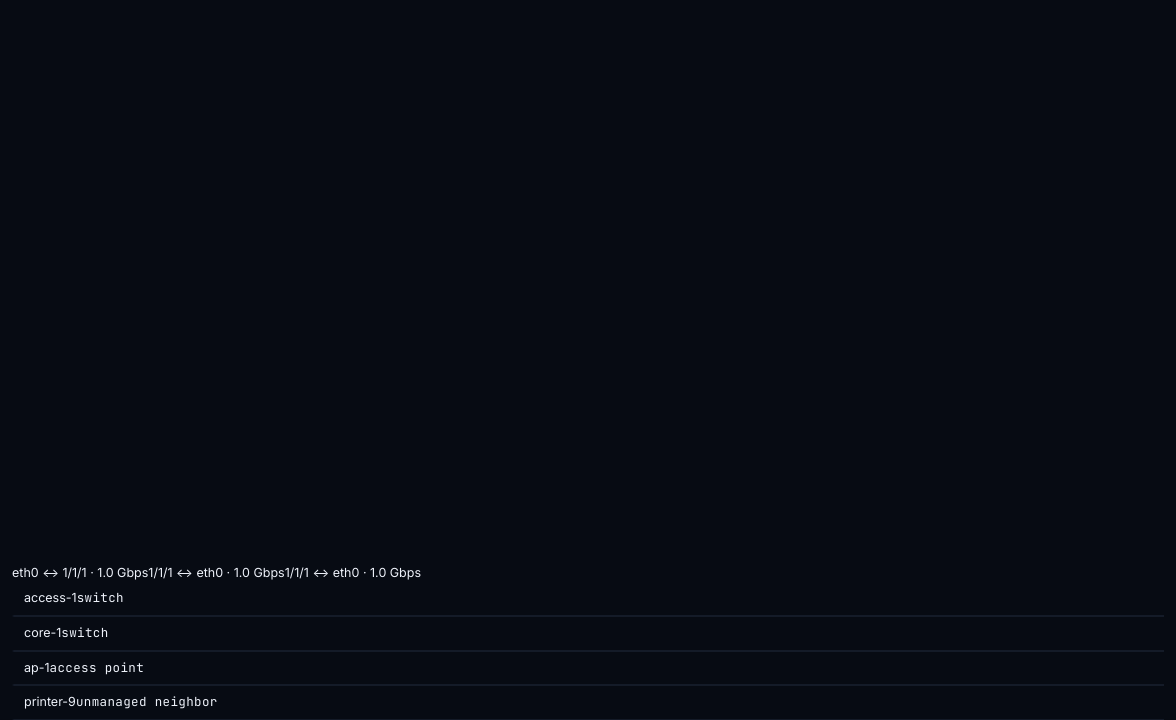
Test: SiteTopologyDiagram — entering focus › shift+click isolates the node with its 1-hop neighbours and dims everything else
The width and height of the screenshot is (1176, 720).
(page scrolled)
What coordinates should you click on to do the following:
click the button with aria-label "Open device access-1"
I would click on:
 (50, 597)
Its box is [12,582,1164,616].
(page scrolled)
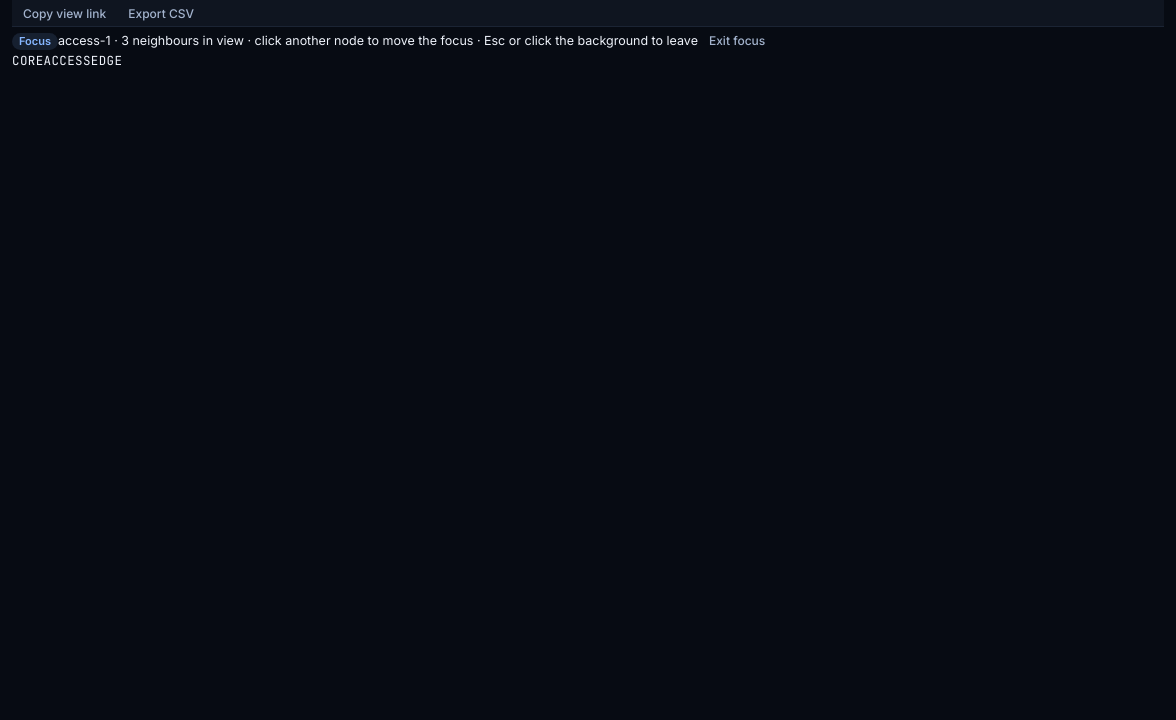
Now the text "access-1 · 3 neighbours in view" is shown, box [58,32,698,48]
